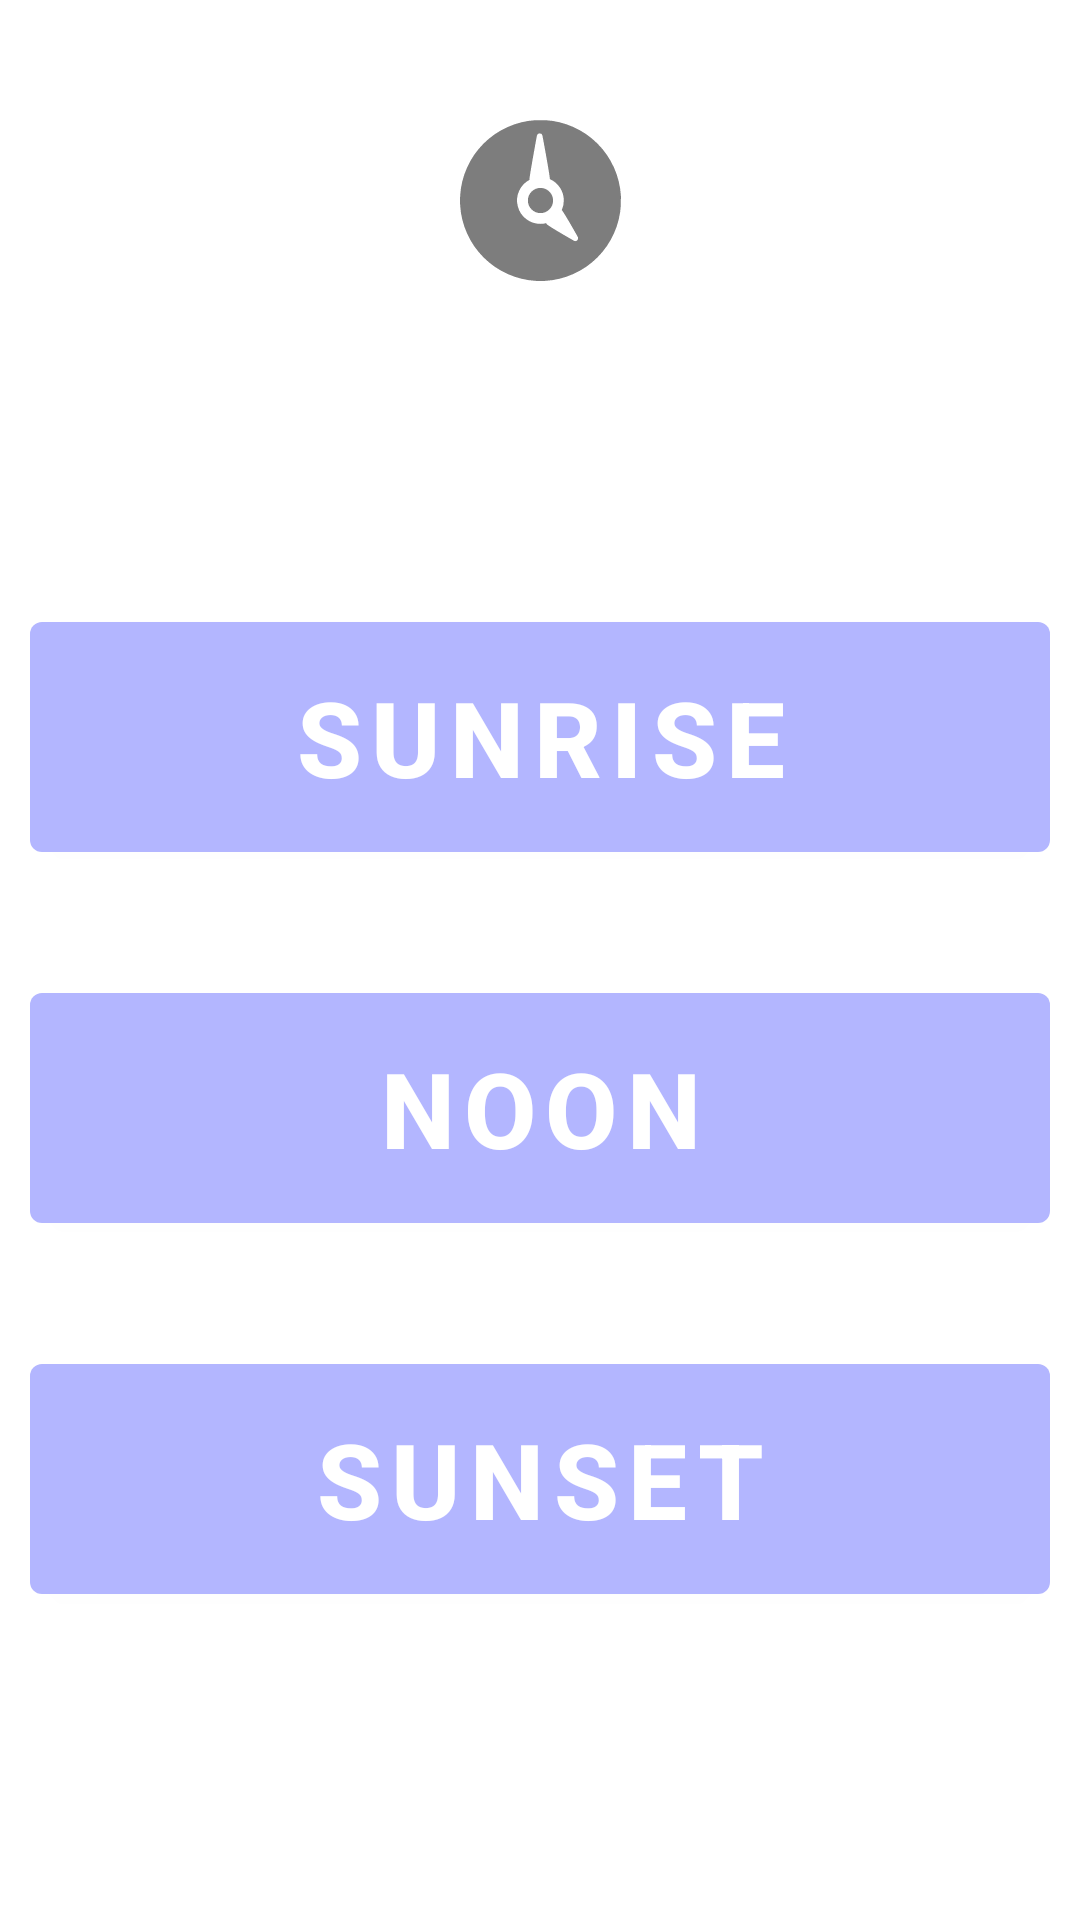

Where to tap for icons on this 1080 x 1920 app screen, as (x,y):
Timetable: (540,200)
